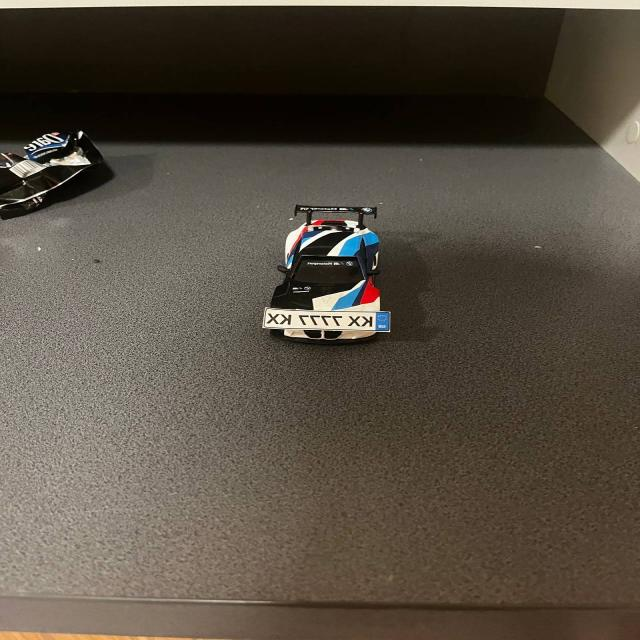cars: (244, 196, 410, 348)
